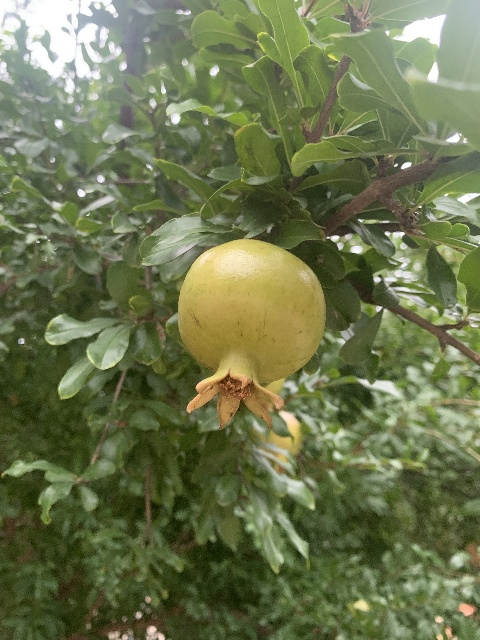mid-growth: (176, 238, 326, 430), (252, 410, 303, 473)
